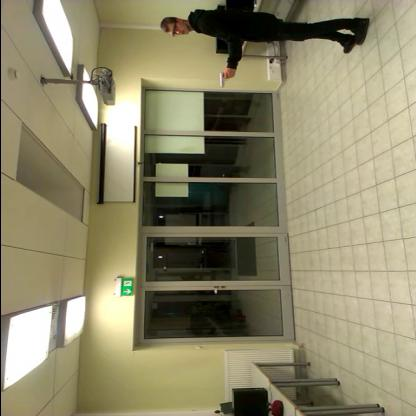Pistol: (214, 70, 231, 90)
